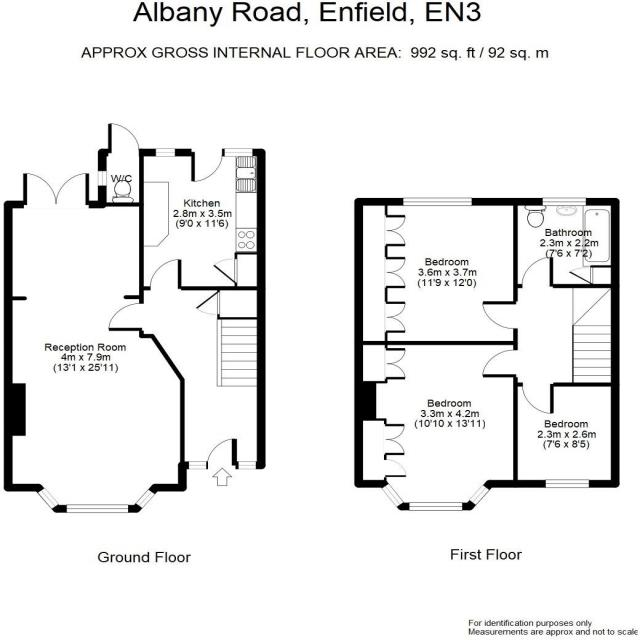DOOR: (105, 299, 143, 335), (147, 254, 183, 291), (479, 298, 518, 332), (519, 255, 556, 288), (480, 347, 518, 379), (521, 382, 557, 415), (107, 121, 142, 154), (190, 148, 223, 183), (206, 438, 238, 470)
DOUBLE DOOR: (21, 167, 94, 209)
ROOM: (3, 160, 186, 511), (354, 340, 518, 510), (354, 198, 518, 345), (139, 149, 266, 291), (513, 382, 620, 488)
WINDOW: (400, 195, 474, 208), (379, 481, 405, 509), (66, 503, 130, 514), (408, 501, 465, 513), (36, 485, 61, 511), (467, 482, 492, 508), (541, 195, 589, 208), (543, 477, 590, 490), (134, 487, 157, 510), (224, 147, 254, 158), (95, 168, 110, 187), (155, 147, 176, 158), (238, 460, 257, 470), (188, 460, 206, 470)
